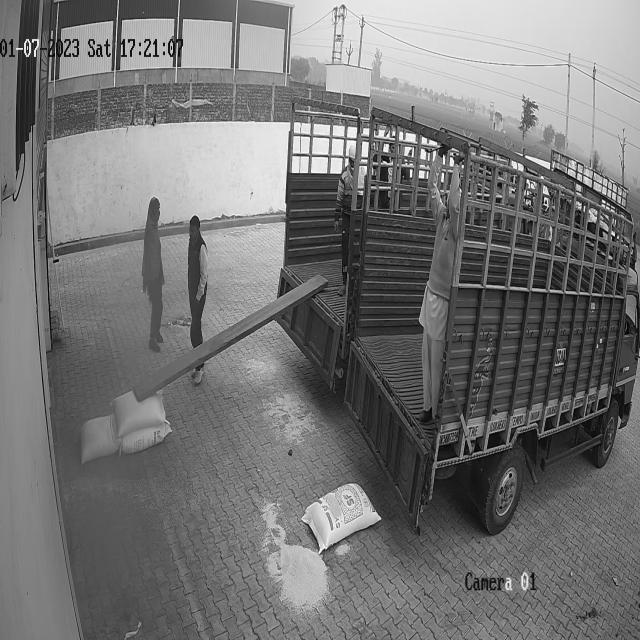sack: (300, 482, 380, 553), (110, 388, 166, 437), (79, 414, 120, 462), (121, 422, 171, 453)
